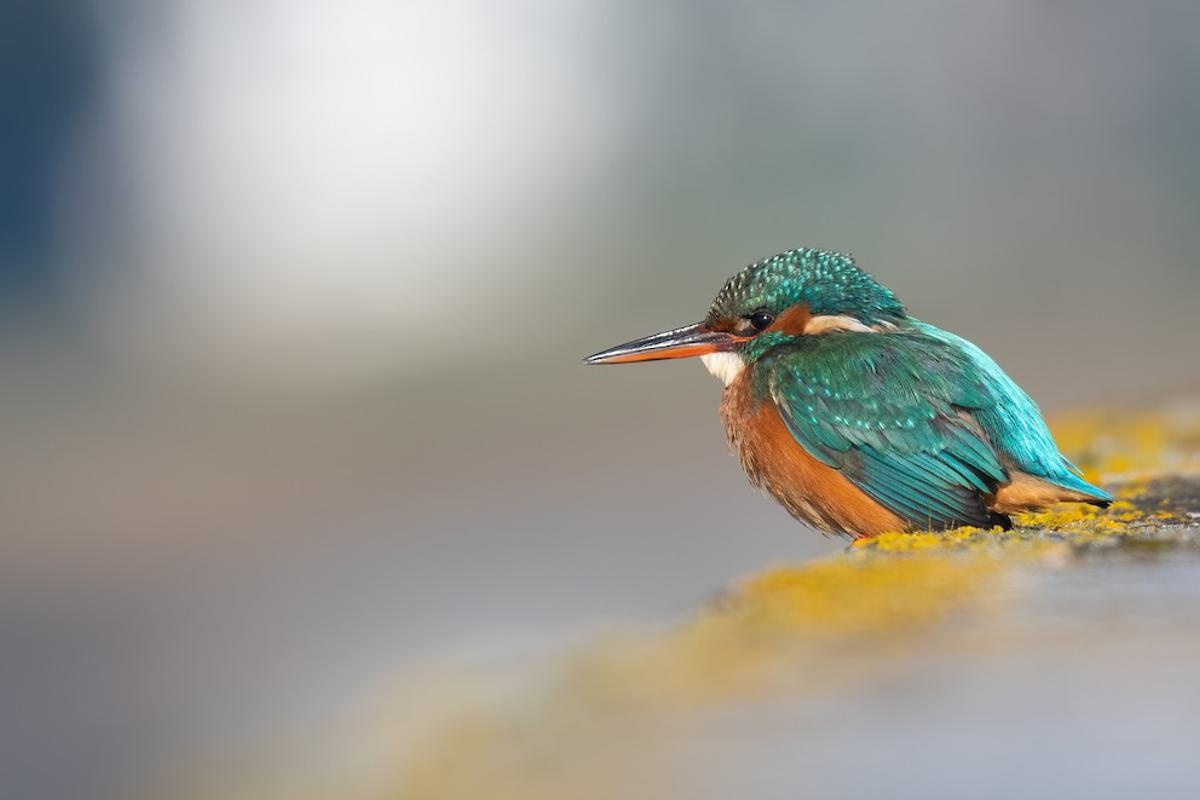kingfisher: (589, 222, 1138, 585)
